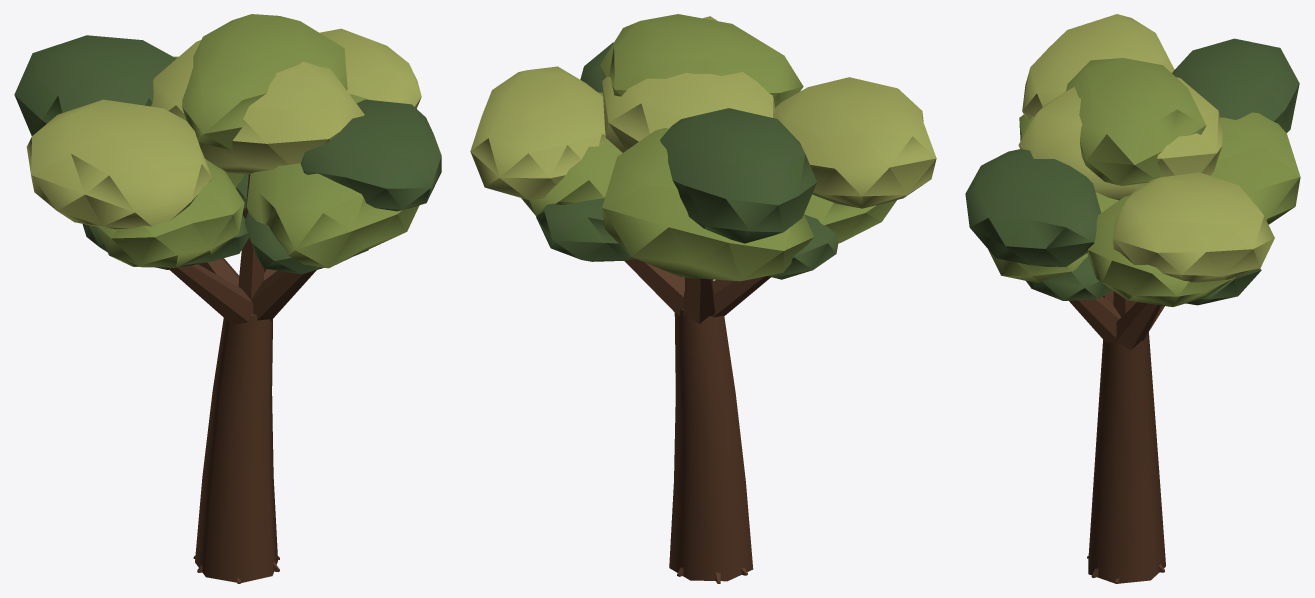
Rendered from tree_oak_broadleaf_a.glb.
The picture shows the model from 3 angles, left to right: view 1: azimuth 30°, elevation 25°; view 2: azimuth 150°, elevation 25°; view 3: azimuth 270°, elevation 25°; orthographic projection. The views are drawn at different scales.
Visible parts, largest first — view 1: oak_canopy_01, oak_canopy_00, oak_fork_0, oak_canopy_03; view 2: oak_canopy_01, oak_canopy_00, oak_fork_0, oak_canopy_03; view 3: oak_canopy_01, oak_canopy_00, oak_canopy_03, oak_fork_0.
Part boxes in pixels (x1,y1,x2,y2): oak_canopy_01: (26,28,421,229); oak_canopy_00: (96,14,419,268); oak_fork_0: (167,174,316,583); oak_canopy_03: (14,35,441,274); oak_canopy_01: (470,16,936,208); oak_canopy_00: (521,14,896,281); oak_fork_0: (624,259,770,583); oak_canopy_03: (536,42,838,279); oak_canopy_01: (1018,14,1274,282); oak_canopy_00: (988,58,1300,306); oak_canopy_03: (965,38,1299,305); oak_fork_0: (1069,290,1165,583).
Size of the model in its own units: 4.66 by 5.77 by 3.45.
